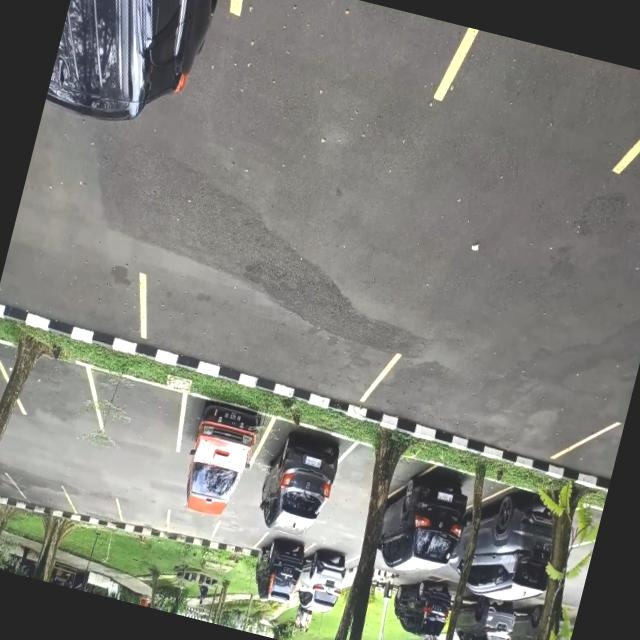car: (375, 456, 477, 575), (247, 419, 350, 525), (168, 397, 270, 503), (291, 542, 354, 615), (250, 533, 312, 600)
free: (125, 277, 390, 418), (435, 25, 640, 184), (362, 350, 592, 480), (215, 0, 475, 101), (0, 244, 153, 356), (0, 345, 105, 437), (85, 372, 189, 458), (575, 408, 626, 492), (7, 474, 72, 522), (66, 488, 126, 535), (111, 498, 170, 544), (163, 509, 220, 554), (209, 521, 262, 563), (0, 456, 15, 512), (0, 327, 9, 393)
